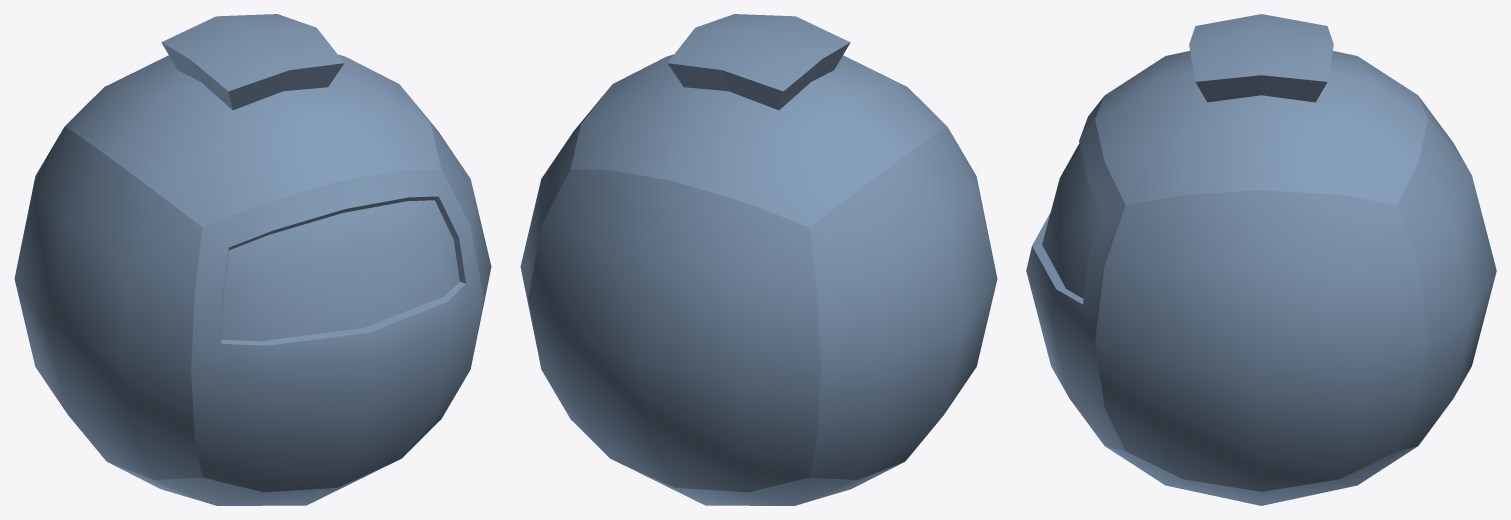
Rendered from rcBotBoomy.FBX.
The picture shows the model from 3 angles, left to right: view 1: azimuth 30°, elevation 25°; view 2: azimuth 150°, elevation 25°; view 3: azimuth 270°, elevation 25°; orthographic projection.
Parts seen in each view (by area): view 1: botBoomyBody, botBoomyFace; view 2: botBoomyBody; view 3: botBoomyBody, botBoomyFace.
Part boxes in pixels (x1,y1,x2,y2): botBoomyBody: (14, 14, 491, 505); botBoomyFace: (221, 200, 459, 341); botBoomyBody: (520, 14, 997, 505); botBoomyBody: (1026, 14, 1496, 505); botBoomyFace: (1042, 143, 1102, 298).
Bounding box in the file's own units: 0.5 × 0.53 × 0.5.
